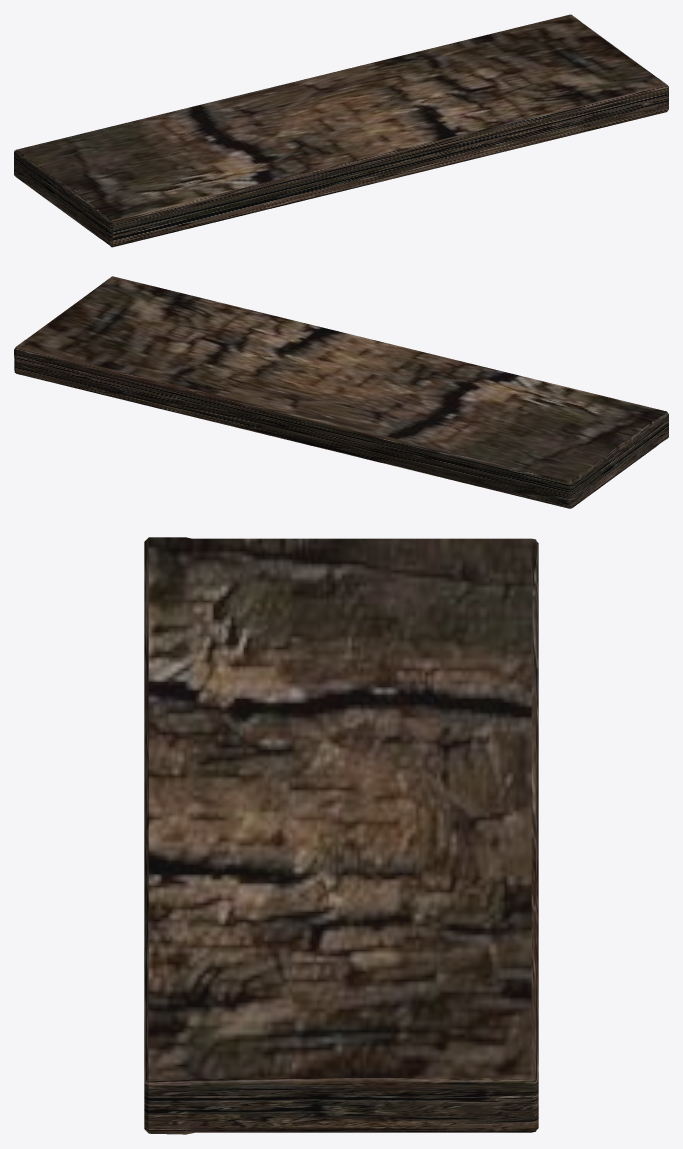
Rendered from Plank1.glb.
The picture shows the model from 3 angles, top to bottom: view 1: azimuth 30°, elevation 25°; view 2: azimuth 150°, elevation 25°; view 3: azimuth 270°, elevation 25°; orthographic projection. The views are drawn at different scales.
Parts seen in each view (by area): view 1: Cube; view 2: Cube; view 3: Cube.
Part boxes in pixels (bbox=[...]): Cube: bbox=[14, 14, 668, 247]; Cube: bbox=[14, 276, 668, 508]; Cube: bbox=[144, 537, 538, 1134].
Size of the model in its own units: 0.85 by 0.041 by 0.26.
Materials: 1 (1 with a texture image).
